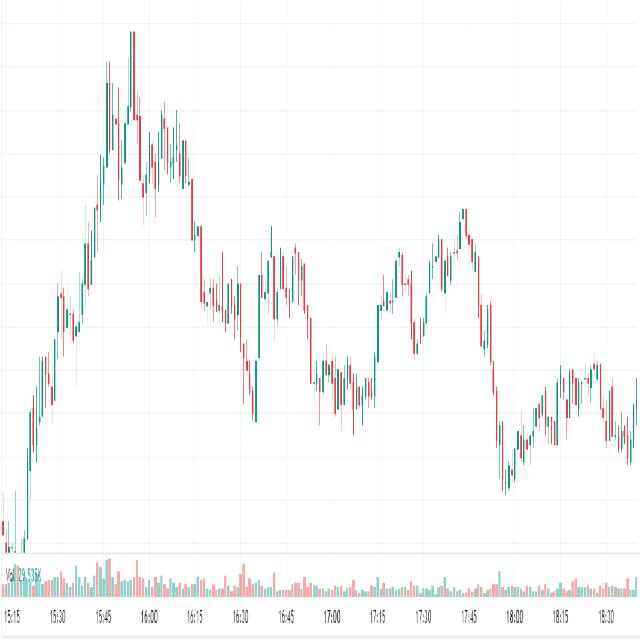Head-Shoulders: (31, 11, 253, 510), (417, 188, 503, 428), (369, 239, 422, 413)
